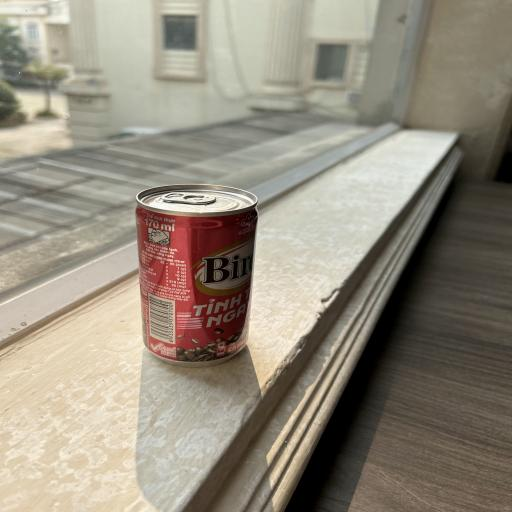birdy: (131, 184, 262, 368)
